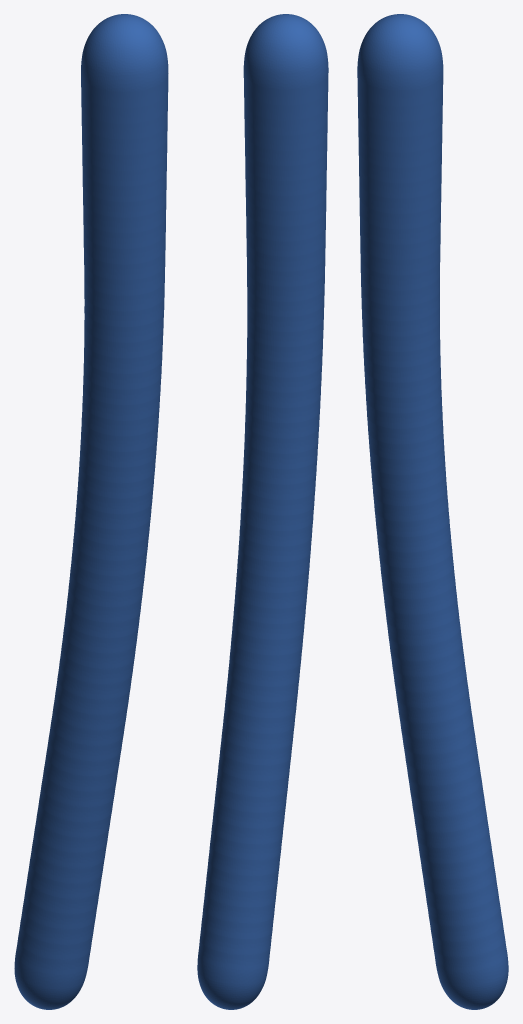
Rendered from BunnyRightLeg.obj.
3 renders of one model, left to right at view 1: azimuth 90°, elevation 25°; view 2: azimuth 150°, elevation 25°; view 3: azimuth 270°, elevation 25°, orthographic. The views are drawn at different scales.
Visible parts, largest first — view 1: model_9; view 2: model_9; view 3: model_9.
Part boxes in pixels (x1,y1,x2,y2): model_9: (14, 14, 168, 1009); model_9: (197, 14, 328, 1009); model_9: (357, 14, 508, 1009).
Bounding box in the file's own units: 36.26 × 394 × 55.07.
1 material, 1 textured.
